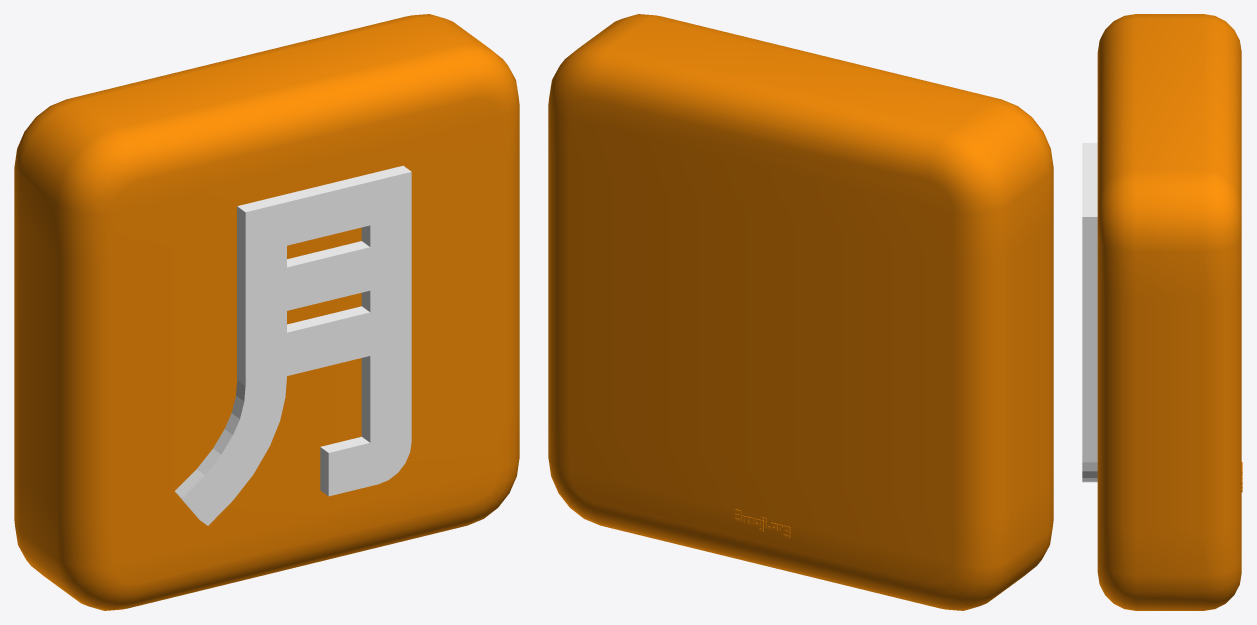
Rendered from japanese_monthly_amount_button.fbx.
3 views of the same model, side by side, from view 1: azimuth 30°, elevation 25°; view 2: azimuth 150°, elevation 25°; view 3: azimuth 270°, elevation 25° (orthographic). The views are drawn at different scales.
Parts seen in each view (by area): view 1: Cube.6651; view 2: Cube.6651; view 3: Cube.6651.
Part boxes in pixels (<box>): Cube.6651: <box>14,14,519,610</box>; Cube.6651: <box>548,14,1053,610</box>; Cube.6651: <box>1082,14,1242,610</box>.
Bounding box in the file's own units: 220 × 220 × 73.37.
1 material, 1 textured.
